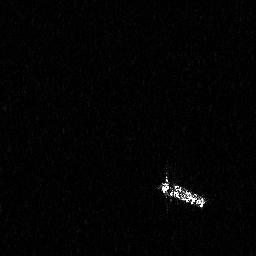ship: (157, 161, 209, 215)
